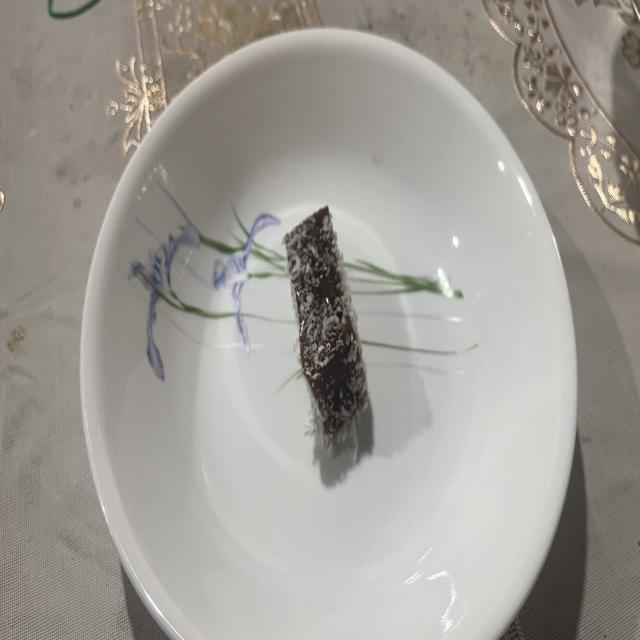kaswi: (284, 207, 369, 444)
